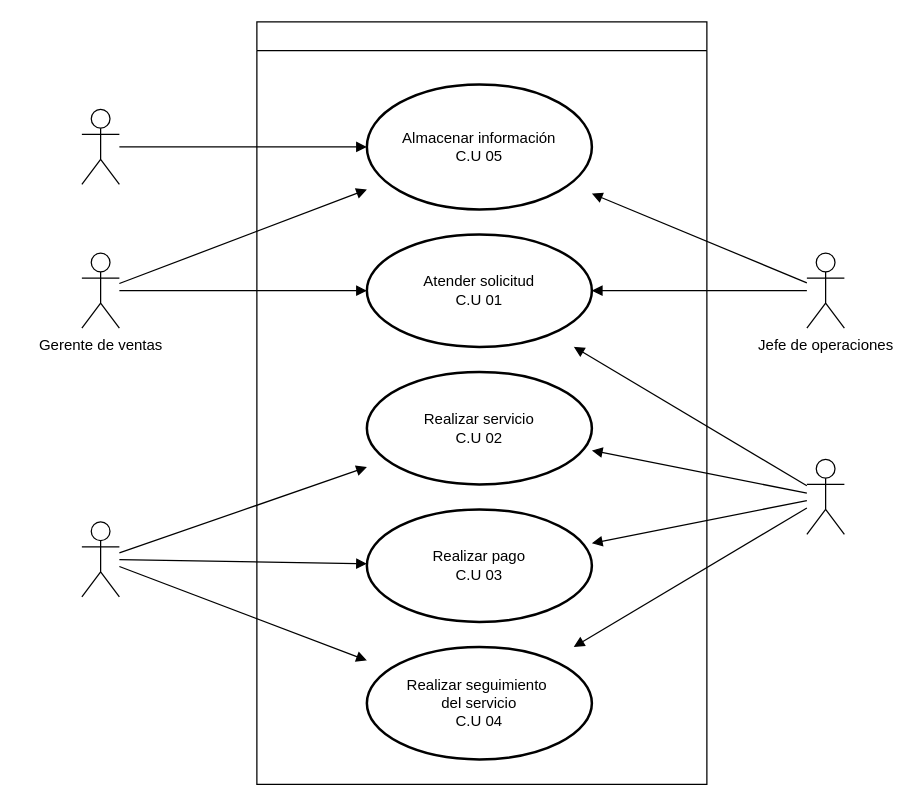
Some shapes in this 915 by 806 pixel diagram are drawn without their labels. Each missing label, with the box of its shape:
Cliente: (806, 458, 844, 534)
Gerente general: (81, 108, 119, 184)
Técnico de operaciones: (81, 521, 119, 597)
Venta de servicios de fumigación y exterminación de plagas.: (256, 21, 707, 784)
